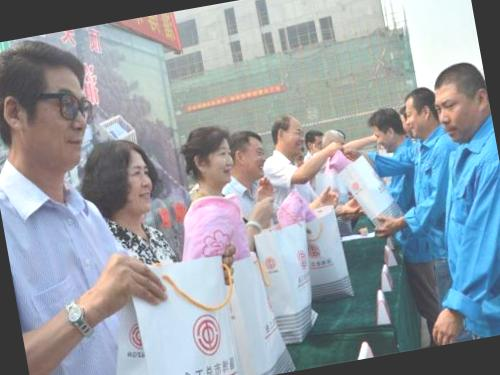no_helmet: (0, 28, 102, 185), (76, 133, 162, 230), (424, 54, 491, 142), (180, 118, 239, 192), (395, 82, 444, 142), (224, 123, 270, 183), (364, 101, 408, 153), (267, 112, 305, 161), (319, 126, 349, 158), (300, 125, 326, 159)
